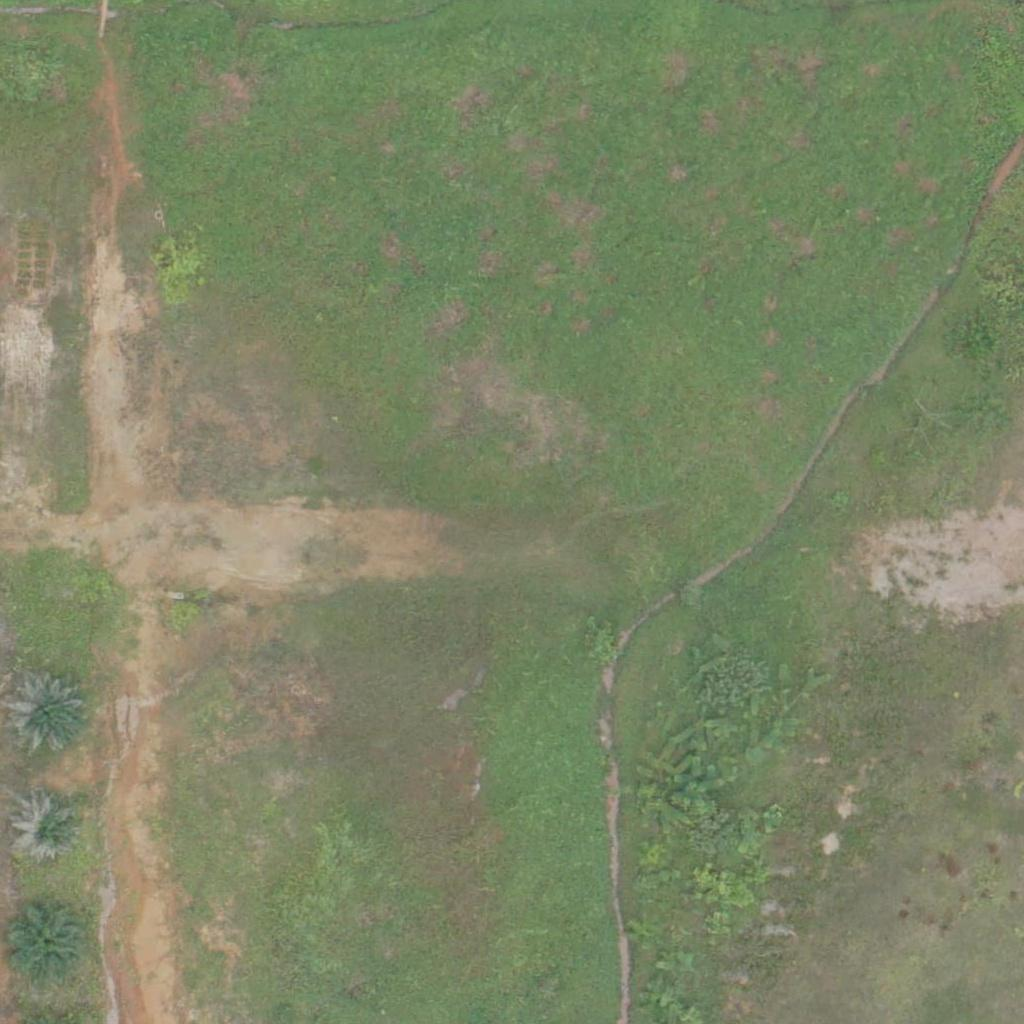Kelapa_Sawit: (1, 671, 89, 759), (3, 901, 91, 989), (13, 792, 88, 868)
